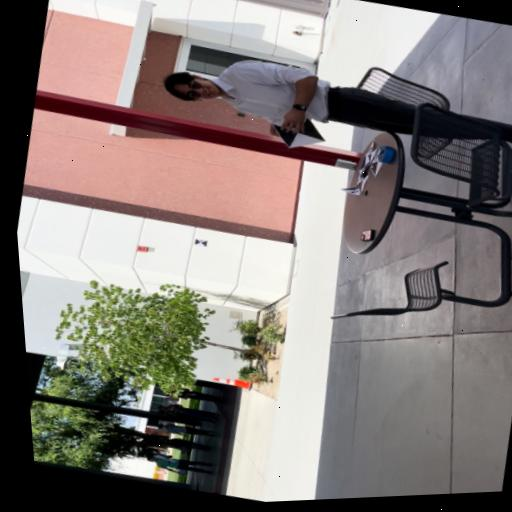target6: (193, 237, 208, 247)
